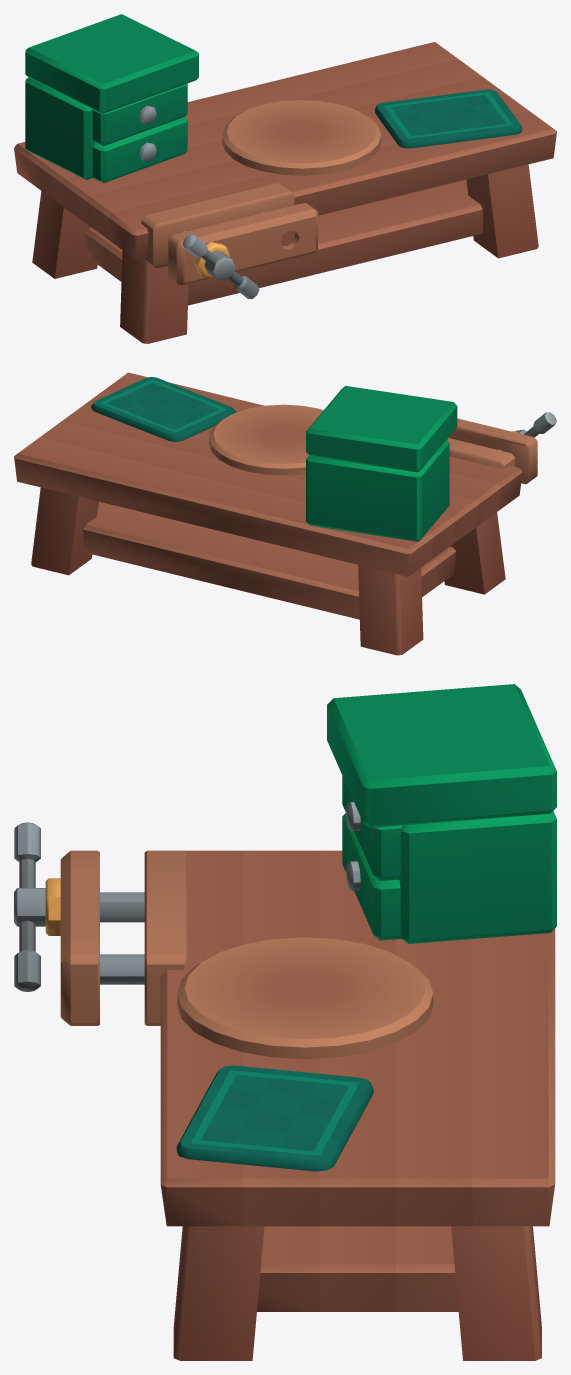
Rendered from Toy_Workbench.obj.
3 views of the same model, one above another, from view 1: azimuth 30°, elevation 25°; view 2: azimuth 150°, elevation 25°; view 3: azimuth 270°, elevation 25° (orthographic). The views are drawn at different scales.
Parts seen in each view (by area): view 1: Toy_Workbench; view 2: Toy_Workbench; view 3: Toy_Workbench.
Part boxes in pixels (bbox=[...]): Toy_Workbench: bbox=[14, 14, 556, 343]; Toy_Workbench: bbox=[14, 372, 556, 655]; Toy_Workbench: bbox=[14, 684, 556, 1360].
Size of the model in its own units: 3 by 1.5 by 2.06.
1 material, 1 textured.
